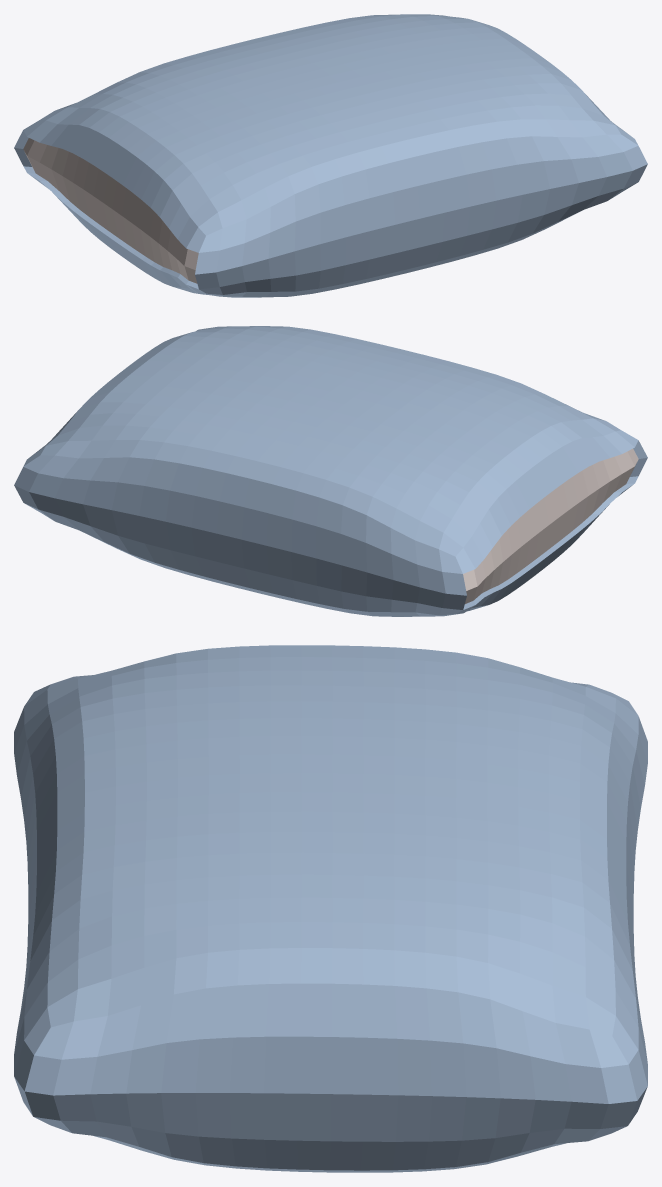
File: Pillow.fbx
3 views of the same model, one above another, from view 1: azimuth 30°, elevation 25°; view 2: azimuth 150°, elevation 25°; view 3: azimuth 270°, elevation 25° (orthographic). The views are drawn at different scales.
Visible parts, largest first — view 1: Pillow; view 2: Pillow; view 3: Pillow.
Part boxes in pixels (bbox=[...]): Pillow: bbox=[14, 14, 647, 297]; Pillow: bbox=[14, 326, 647, 616]; Pillow: bbox=[14, 645, 647, 1172].
Size of the model in its own units: 172 by 57.8 by 122.
